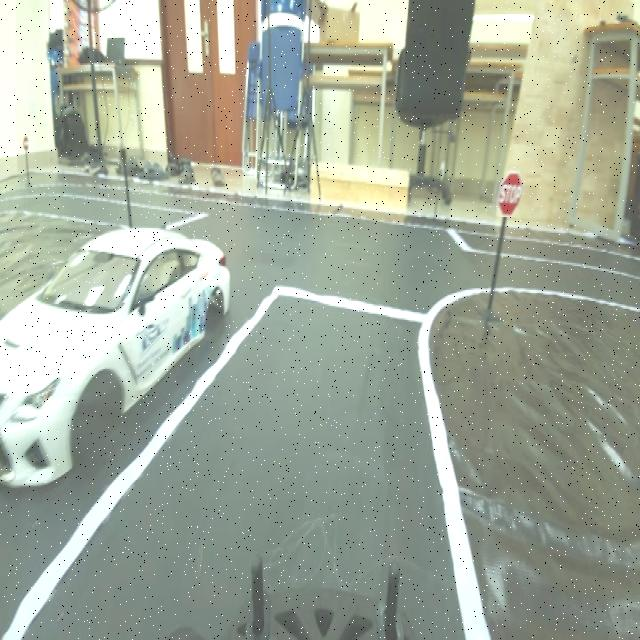car: (2, 239, 237, 496)
stop: (493, 168, 527, 226)
